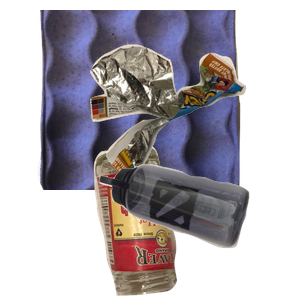glass: (91, 142, 260, 300)
paper: (35, 10, 268, 190)
plastic: (97, 162, 300, 300)
trash: (88, 42, 300, 219)
